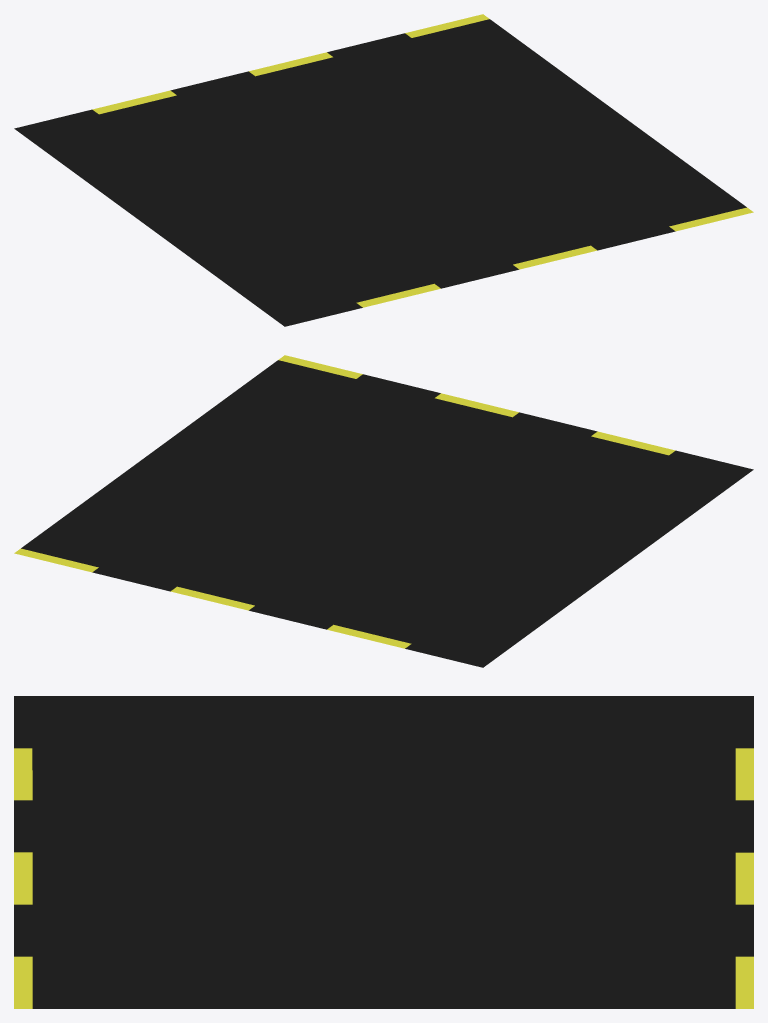
The model's file is Street 1.fbx.
3 views of the same model, one above another, from view 1: azimuth 30°, elevation 25°; view 2: azimuth 150°, elevation 25°; view 3: azimuth 270°, elevation 25° (orthographic). The views are drawn at different scales.
Visible parts, largest first — view 1: Street; view 2: Street; view 3: Street.
Part boxes in pixels (x1,y1,x2,y2): Street: (14,14,753,326); Street: (14,355,753,667); Street: (14,696,753,1008).
Size of the model in its own units: 200 by 3.26e-05 by 200.
